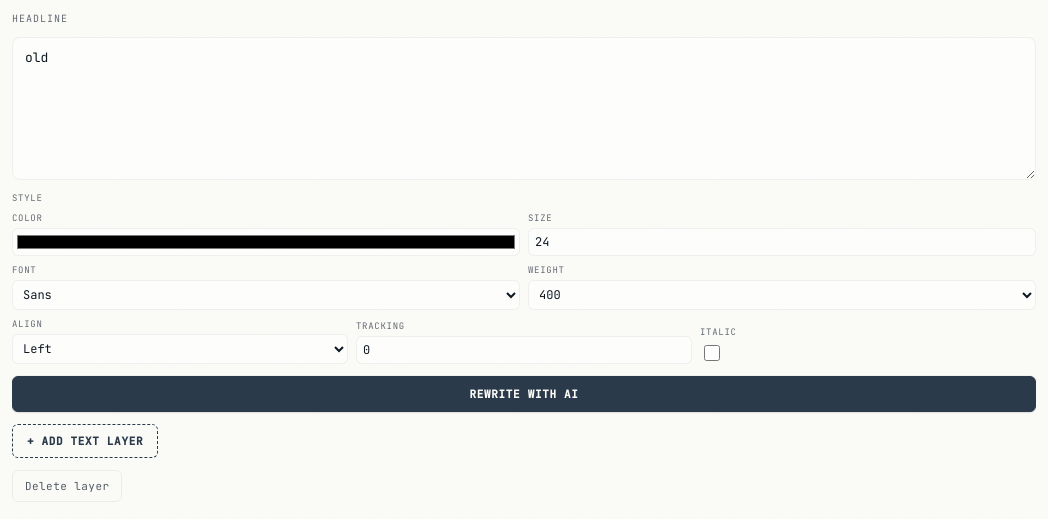
CopyTab › first click on delete arms a confirm but does NOT remove the layer (#66)
What coordinates should you click on to do the following:
click the button "Delete layer"
I would click on:
 (67, 486)
Its box is [12,470,122,502].
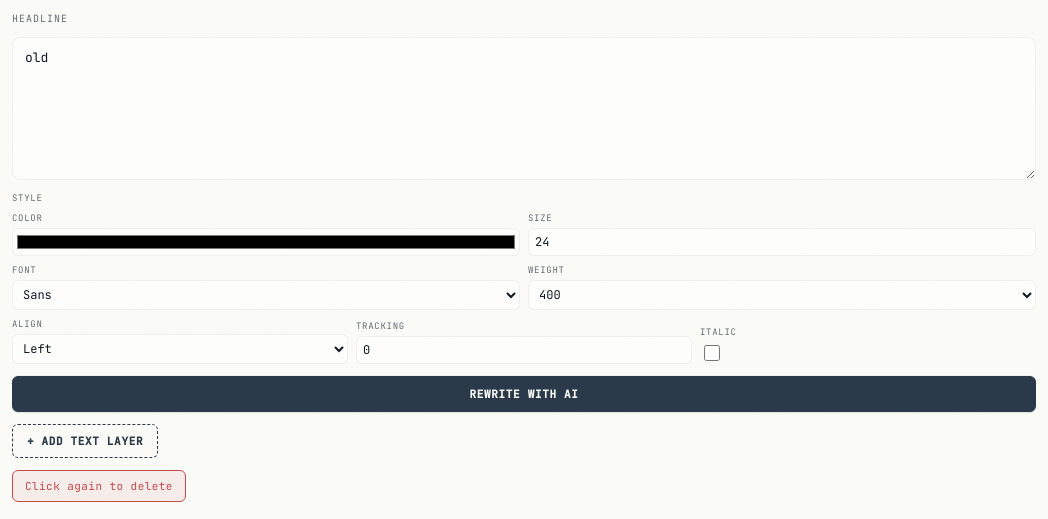
expect the button "Click again to delete" is shown: met, box [12,470,186,502]
